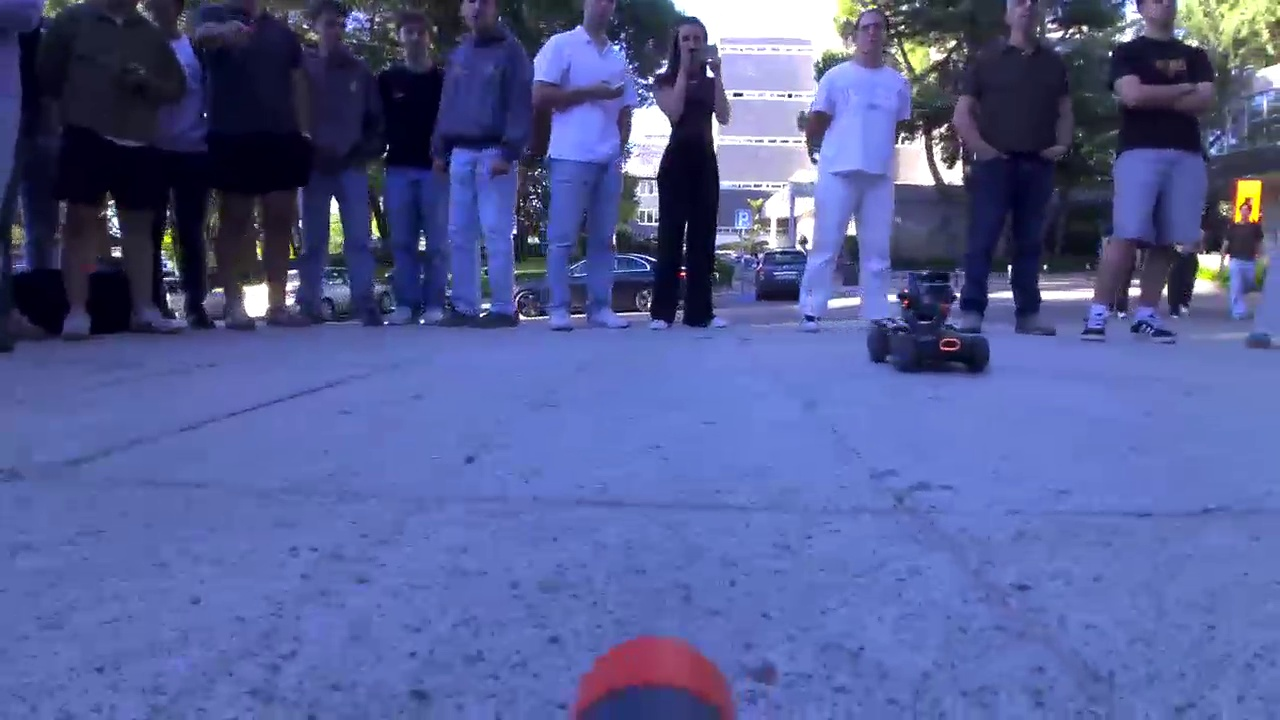robot: (861, 272, 999, 382)
